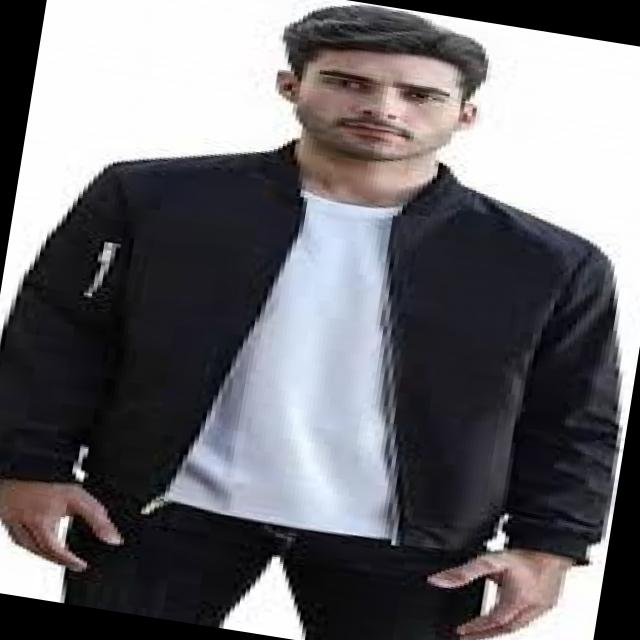Jacket: (0, 83, 640, 590)
